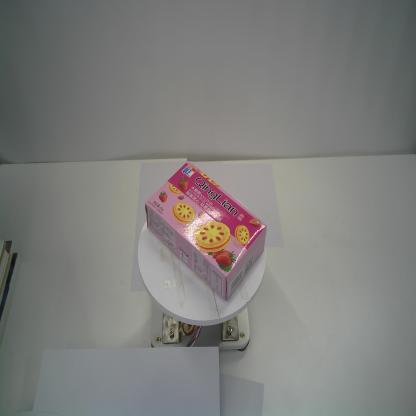Dessert: (144, 160, 268, 303)
